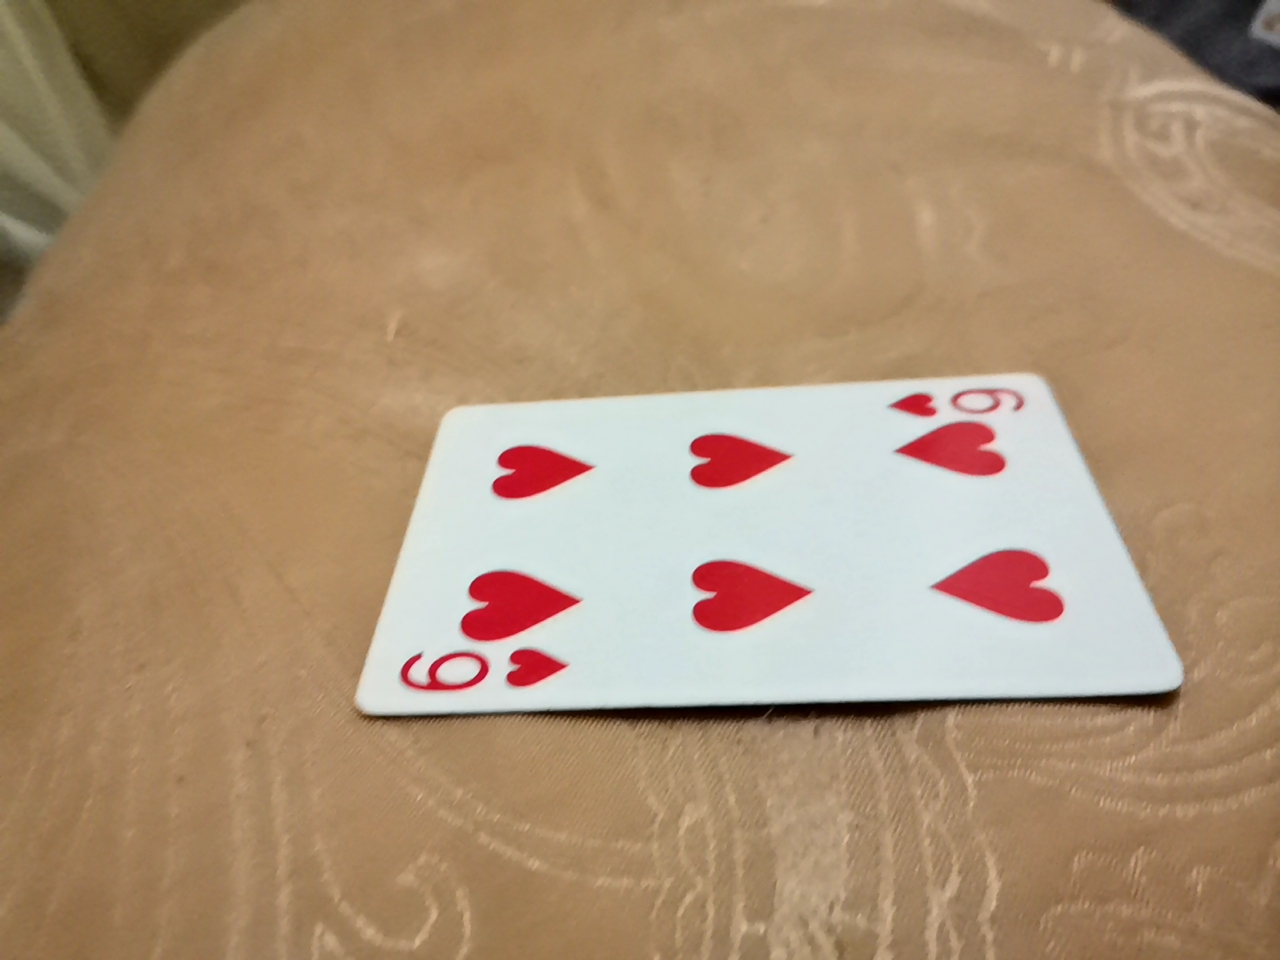hx 6: (342, 341, 1197, 715)
